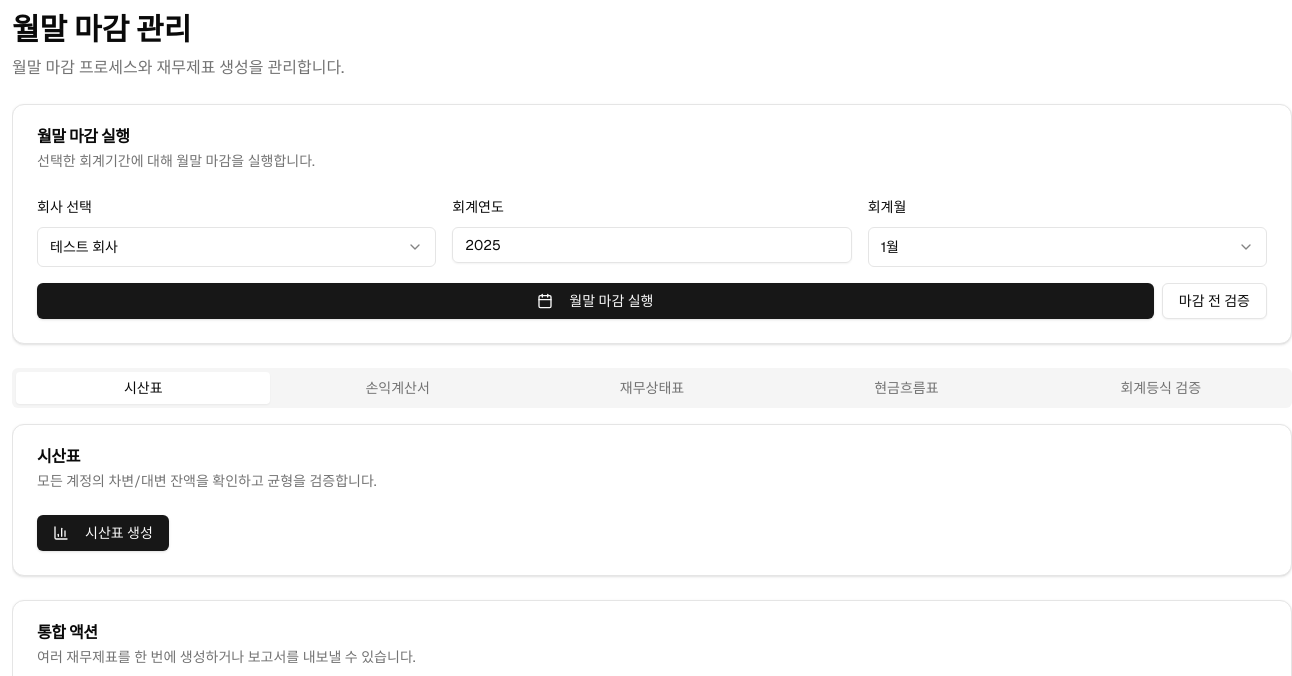
Test: Month End Closing Management UI (TDD) › 시산표 생성 및 검증 › should validate trial balance equilibrium
Click the button "시산표 생성".
click(103, 533)  # box [37,515,169,551]
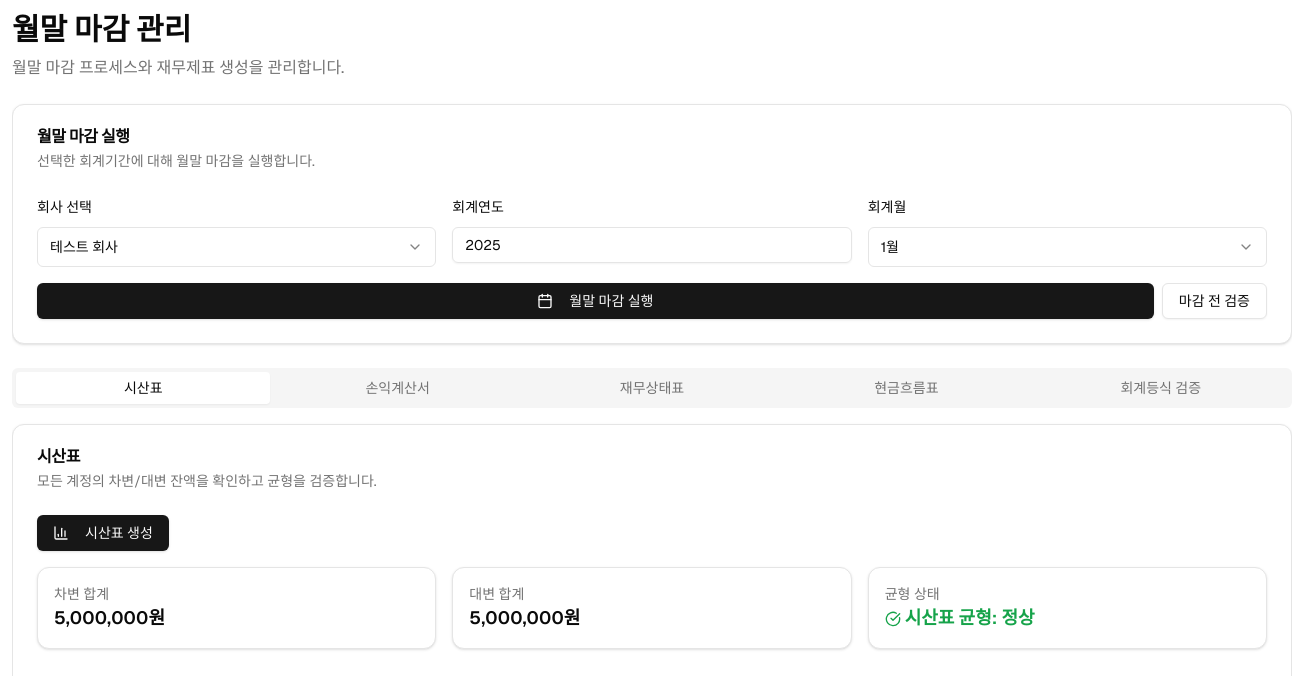
Expected: the text "시산표 균형: 정상" is shown, [885,606,1035,629]
